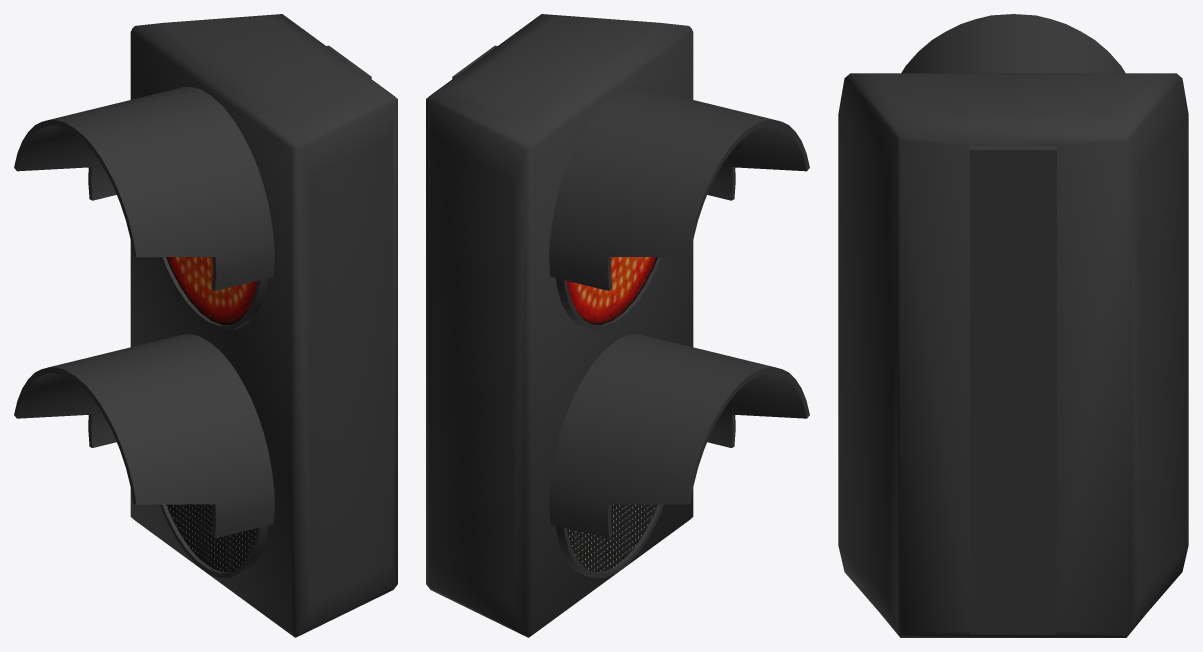
File: 双色指示灯_RedLight.fbx
The picture shows the model from 3 angles, left to right: view 1: azimuth 30°, elevation 25°; view 2: azimuth 150°, elevation 25°; view 3: azimuth 270°, elevation 25°; orthographic projection.
Visible parts, largest first — view 1: 双色指示灯_RedLight; view 2: 双色指示灯_RedLight; view 3: 双色指示灯_RedLight.
Part boxes in pixels (<box>): 双色指示灯_RedLight: <box>14,14,397,637</box>; 双色指示灯_RedLight: <box>426,14,809,637</box>; 双色指示灯_RedLight: <box>838,14,1188,637</box>.
Bounding box in the file's own units: 0.6 × 1.06 × 0.65.
Materials: 3 (2 with a texture image).
